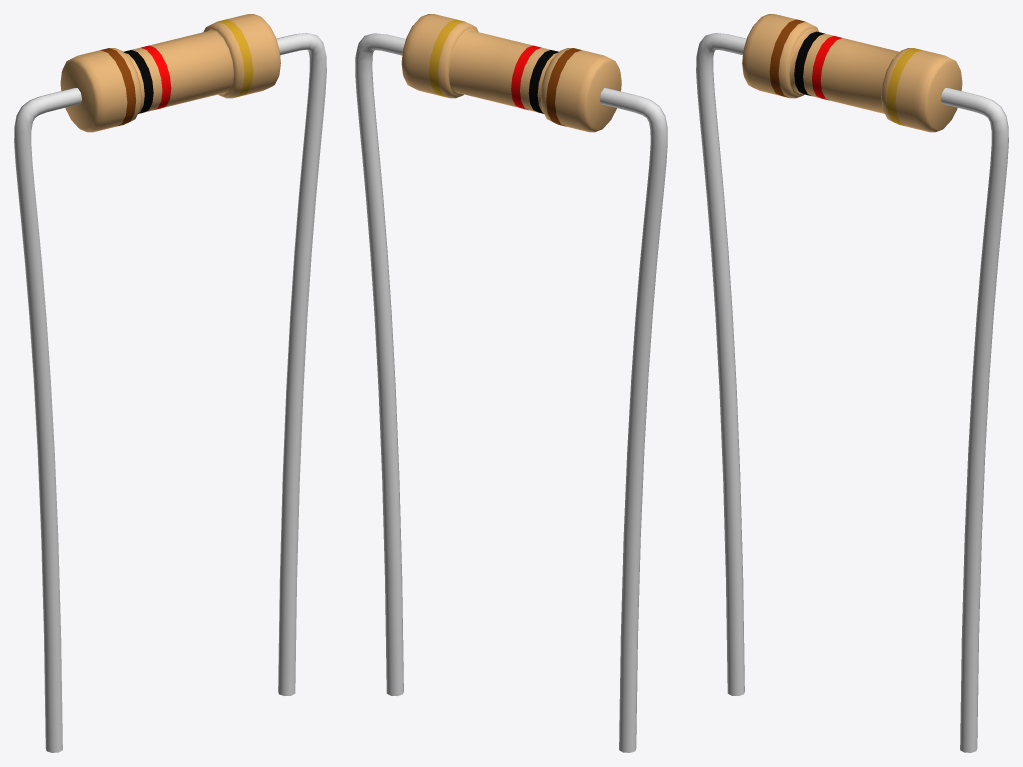
File: resistor.glb
The picture shows the model from 3 angles, left to right: view 1: azimuth 30°, elevation 25°; view 2: azimuth 150°, elevation 25°; view 3: azimuth 330°, elevation 25°; orthographic projection.
Parts seen in each view (by area): view 1: Legs.016, Resistor-Axial; view 2: Legs.016, Resistor-Axial; view 3: Legs.016, Resistor-Axial.
Part boxes in pixels (x1,y1,x2,y2): Legs.016: (14,33,326,752); Resistor-Axial: (60,14,280,132); Legs.016: (355,33,667,752); Resistor-Axial: (401,14,621,132); Legs.016: (696,33,1008,752); Resistor-Axial: (742,14,962,132).
Size of the model in its own units: 0.01 by 0.0211 by 0.0022.
